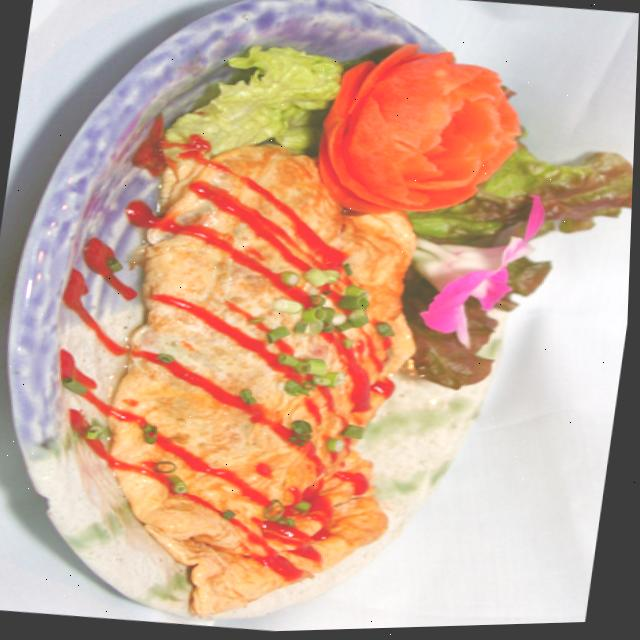鸡蛋料理: (62, 94, 483, 638)
